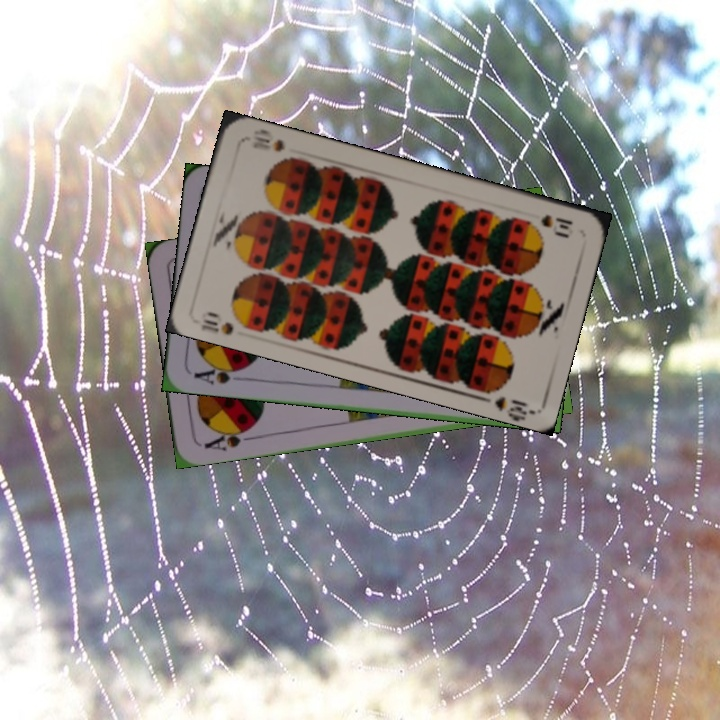S10: (197, 307, 253, 338), (536, 210, 576, 238)
SA: (200, 422, 257, 454), (189, 359, 249, 387)
